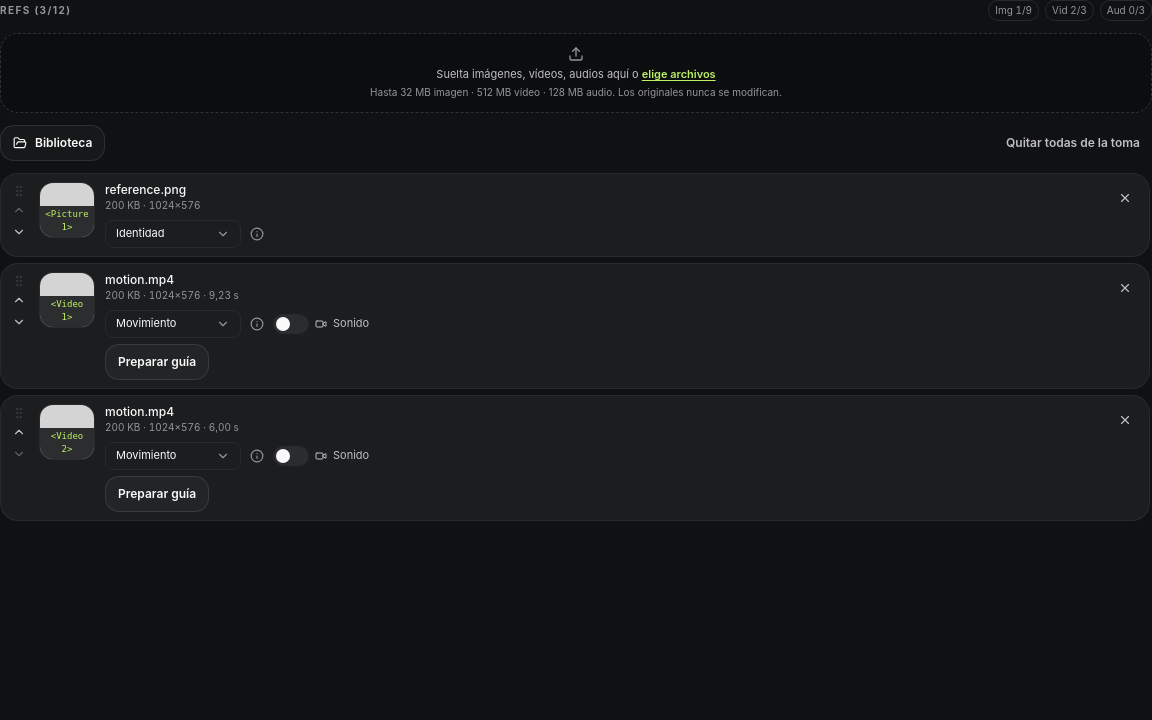
Test: Preparar guía integration › previews seconds 10.125 as 243 exact grid frames without silently shortening
Click the button "Preparar guía" below "· 9,23 s": (157, 362) [105, 344, 209, 380]
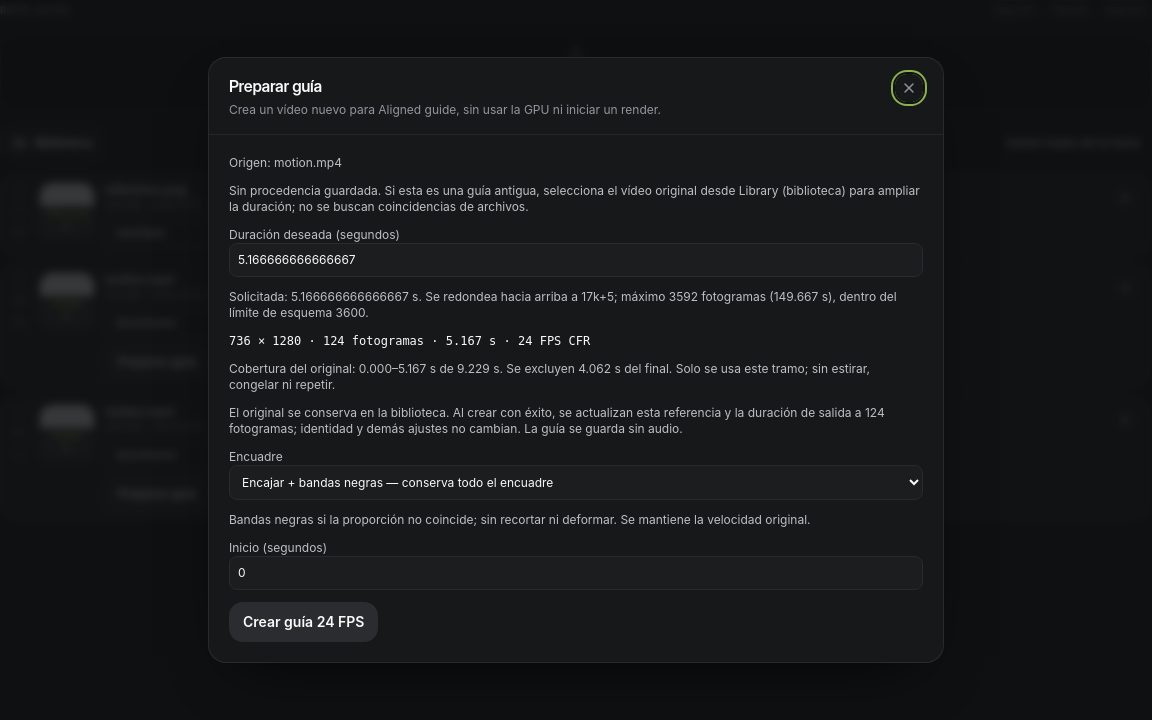
Replace the text in the number field labelled "Duración deseada (segundos)" with "10.125": (576, 260) [229, 243, 923, 277]
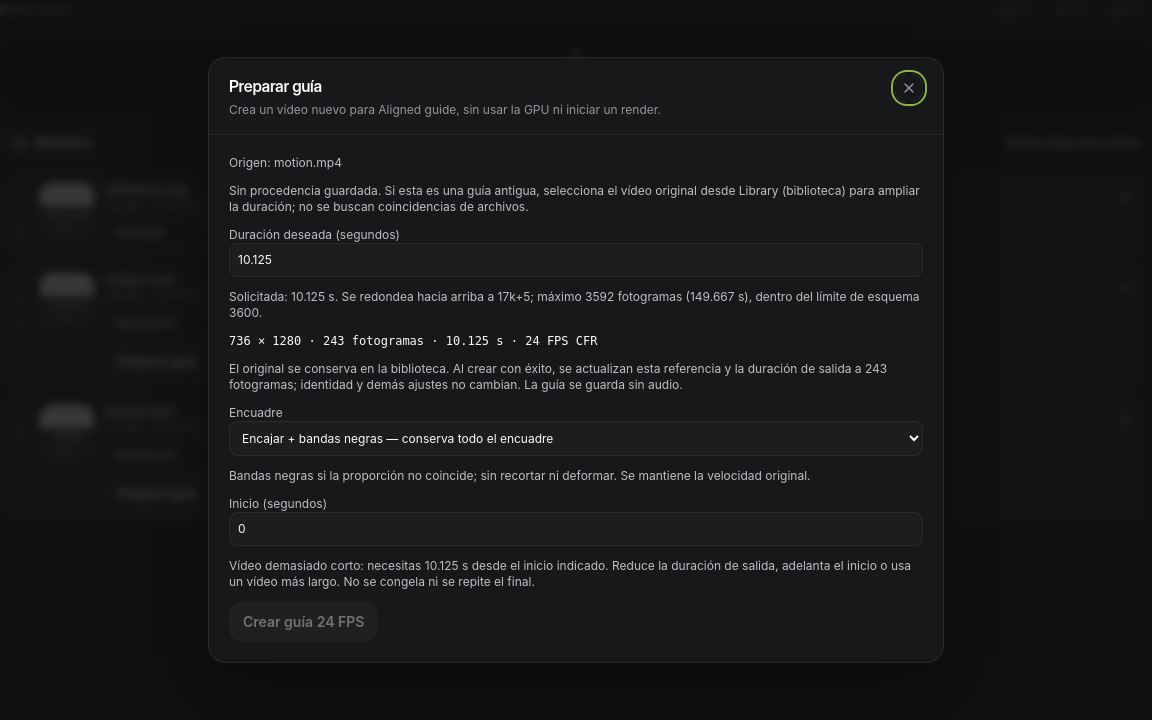
Now the text "736 × 1280 · 243 fotogramas · 10.125 s · 24 FPS CFR" is shown, box [229, 334, 598, 348]
